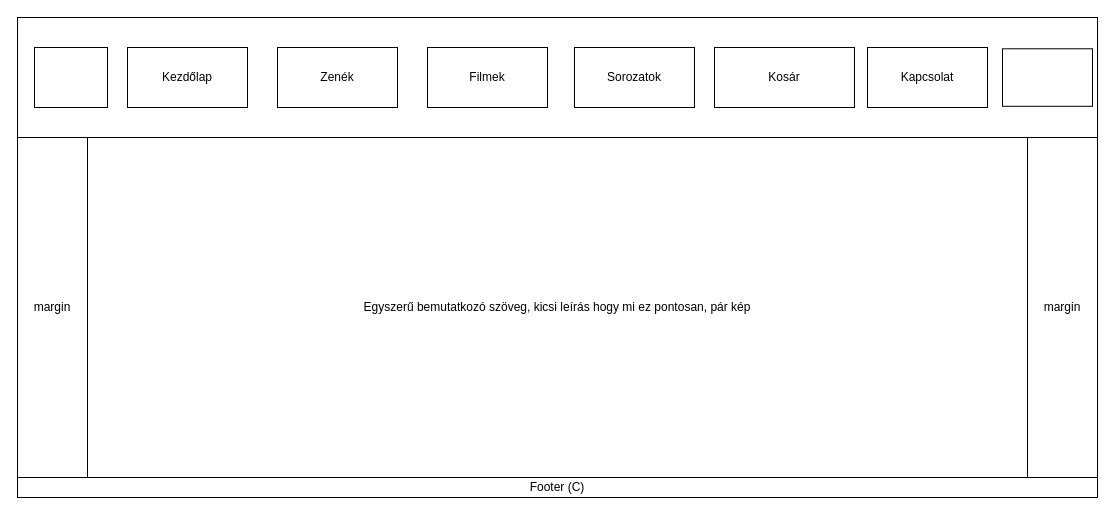
This 1115x515 diagram has some shape labels left out. Each missing label, with the box of its shape:
Bej./Reg.: (1002, 48, 1092, 106)
Logo (opcionális): (34, 46, 108, 108)
